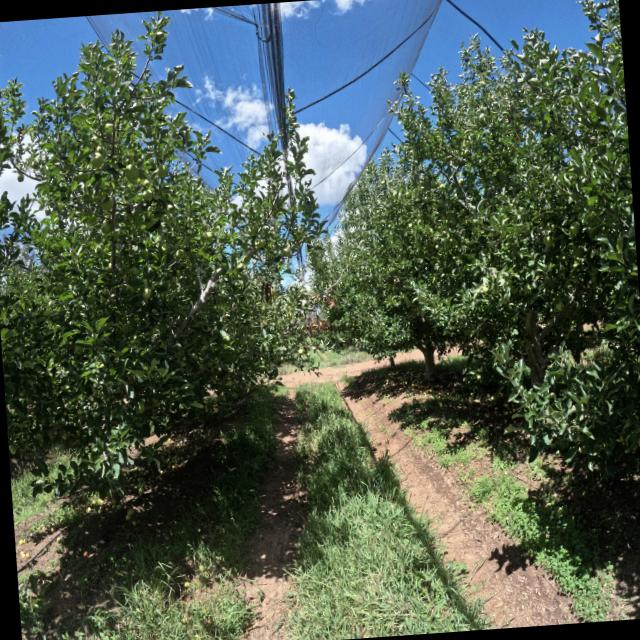-FireBlight-: (304, 314, 333, 335), (258, 280, 276, 303), (322, 296, 337, 307)
